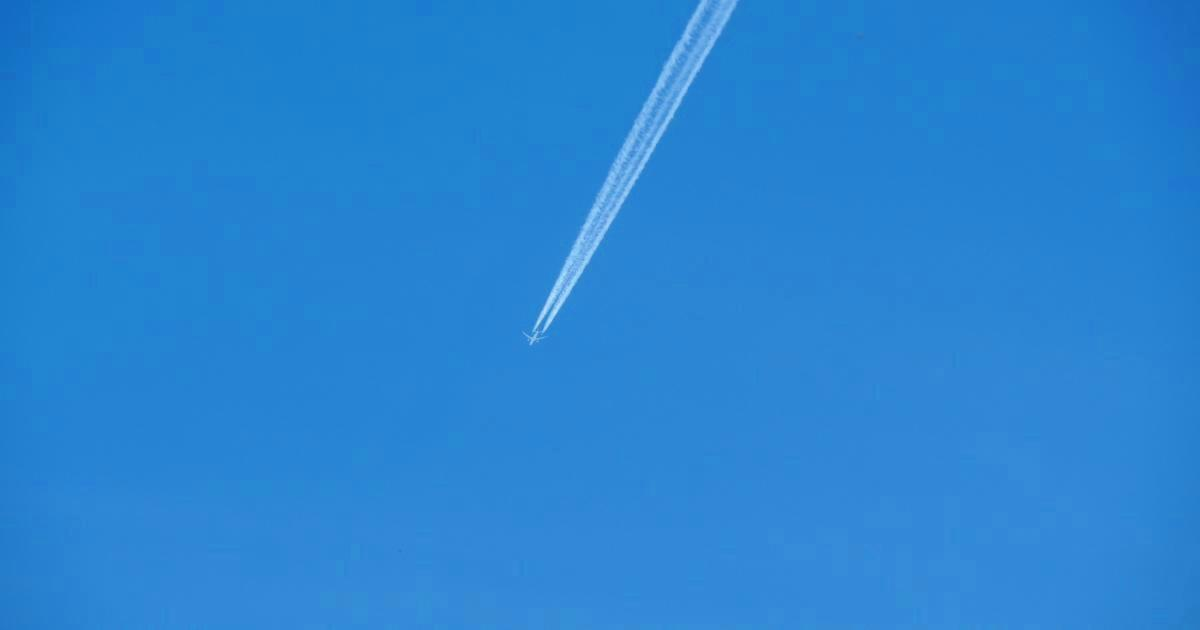Plane: (457, 20, 736, 354)
